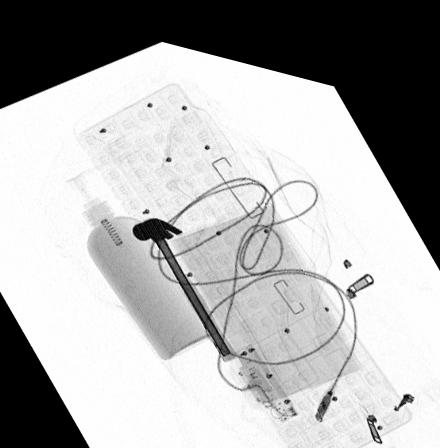Hammer: (130, 207, 237, 350)
